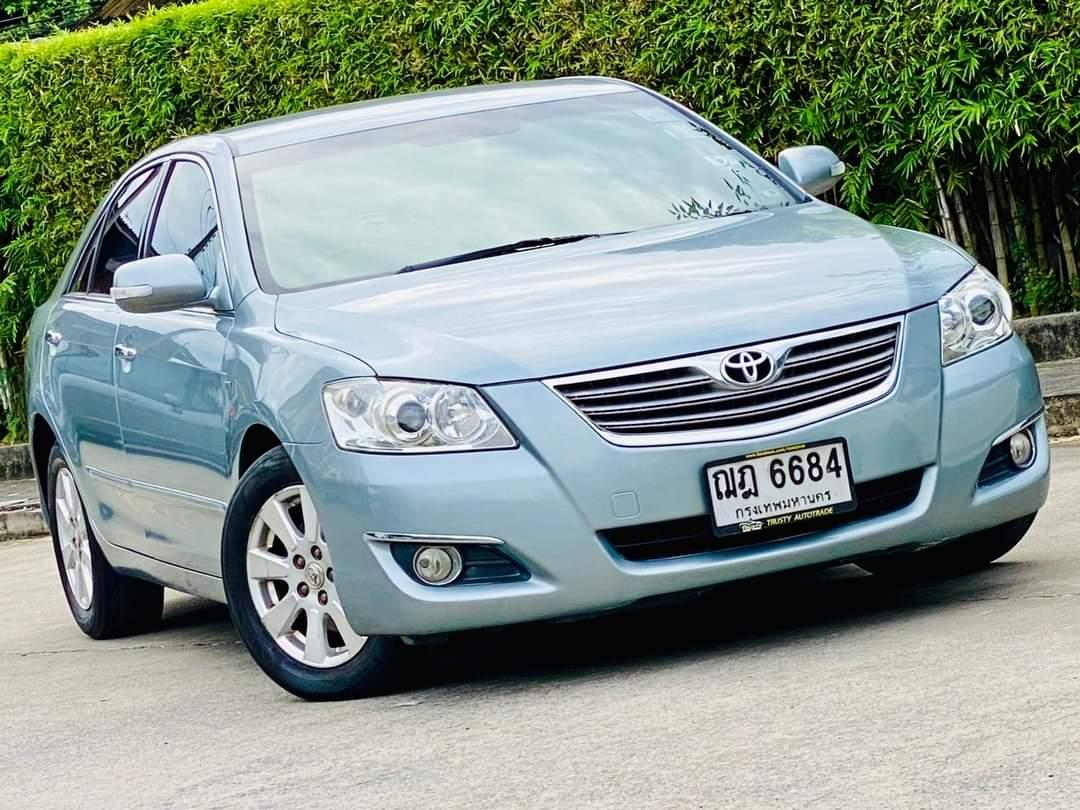license-plate: (700, 434, 860, 539)
